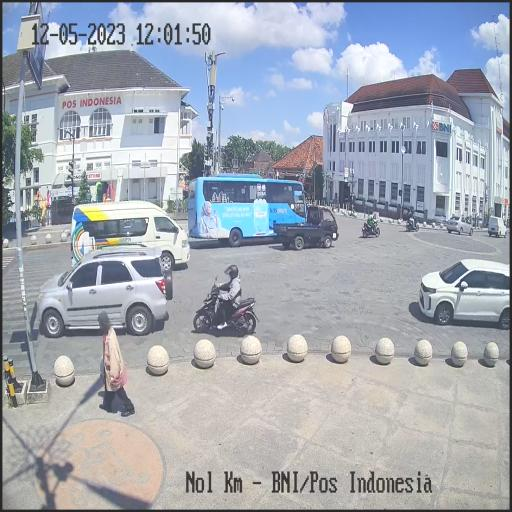mobil: (33, 250, 169, 340), (182, 169, 312, 250), (66, 196, 192, 274), (413, 254, 512, 326), (269, 202, 341, 251)
motor: (193, 276, 257, 342)
